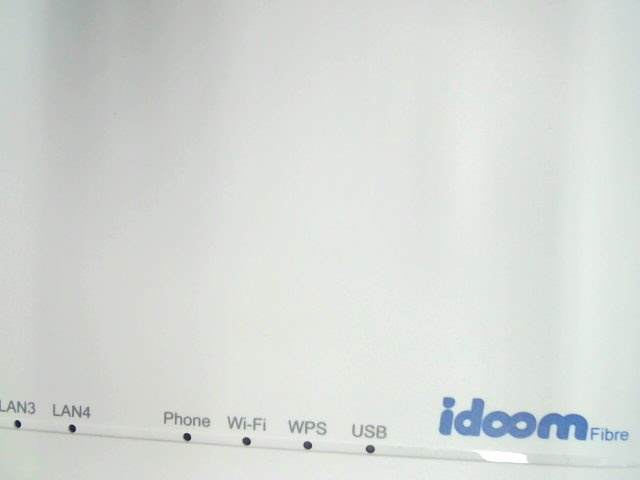BB_idoom: (432, 386, 629, 447)
